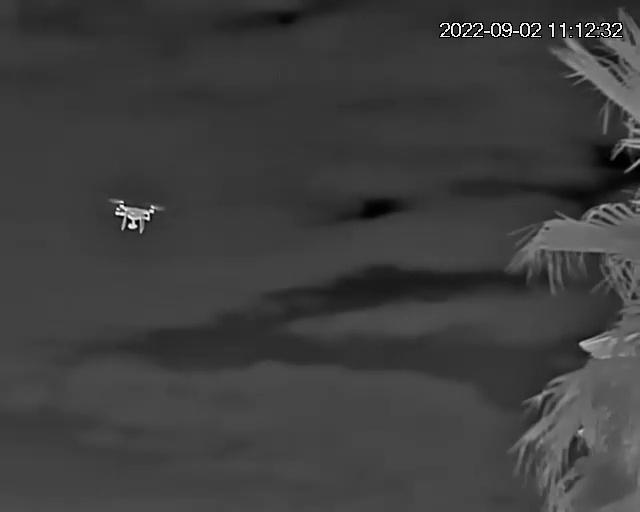DJI-Phantom: (109, 198, 167, 234)
